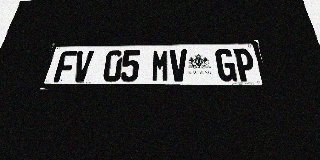0: (102, 50, 123, 82)
5: (120, 50, 140, 82)
F: (53, 51, 77, 82)
G: (215, 49, 237, 81)
M: (151, 50, 169, 82)
P: (233, 48, 257, 81)
V: (71, 51, 94, 82), (170, 49, 188, 82)
